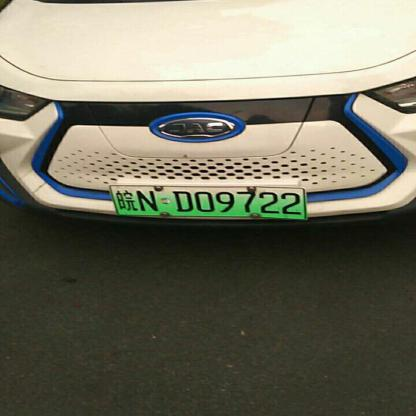lp: (109, 185, 307, 220)
